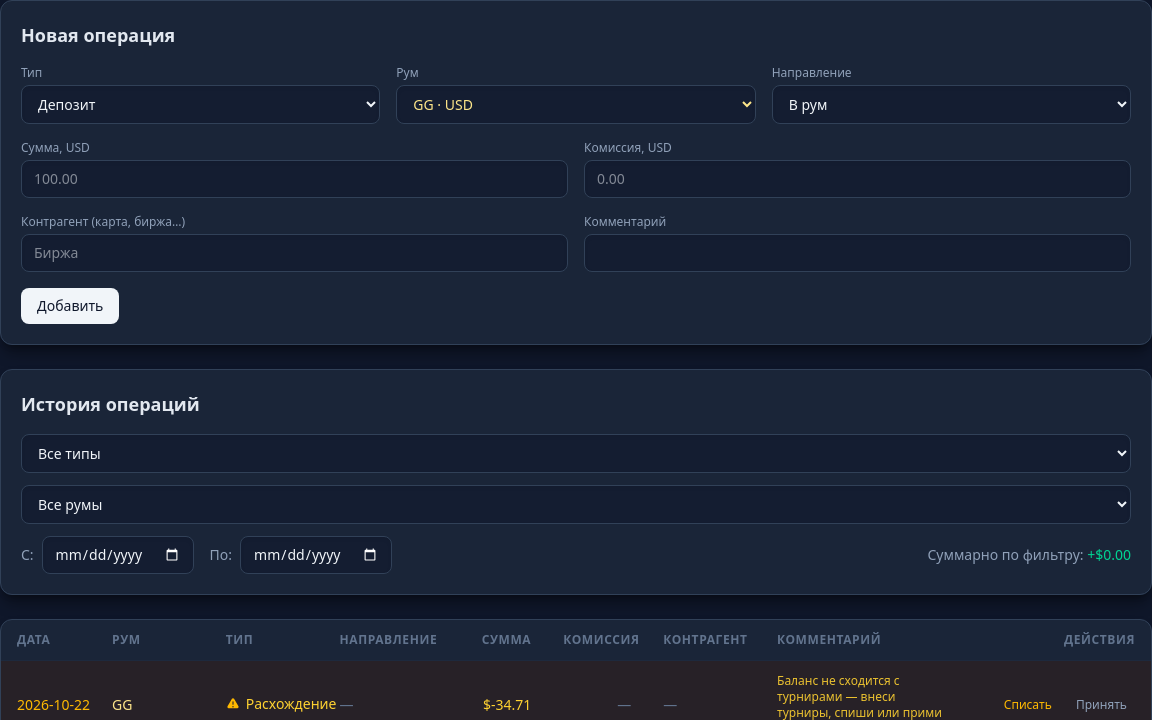
it: TransactionsPage — принятие расхождения › removes the warning row without writing a transaction
Check: the text "Расхождение" is shown, box left=226, top=694, right=336, bottom=714
Click the button "Принять" at (1101, 705), box left=1068, top=693, right=1135, bottom=717
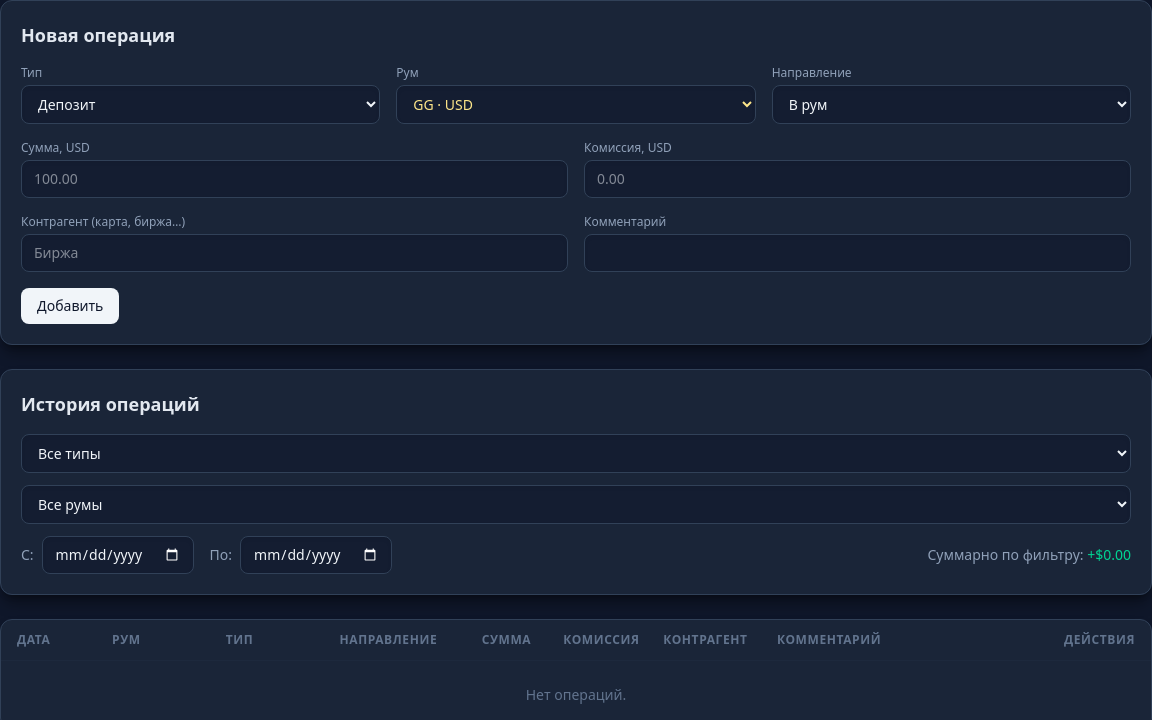
Check: the text "Расхождение" is gone
Check: the button "Списать" is gone
